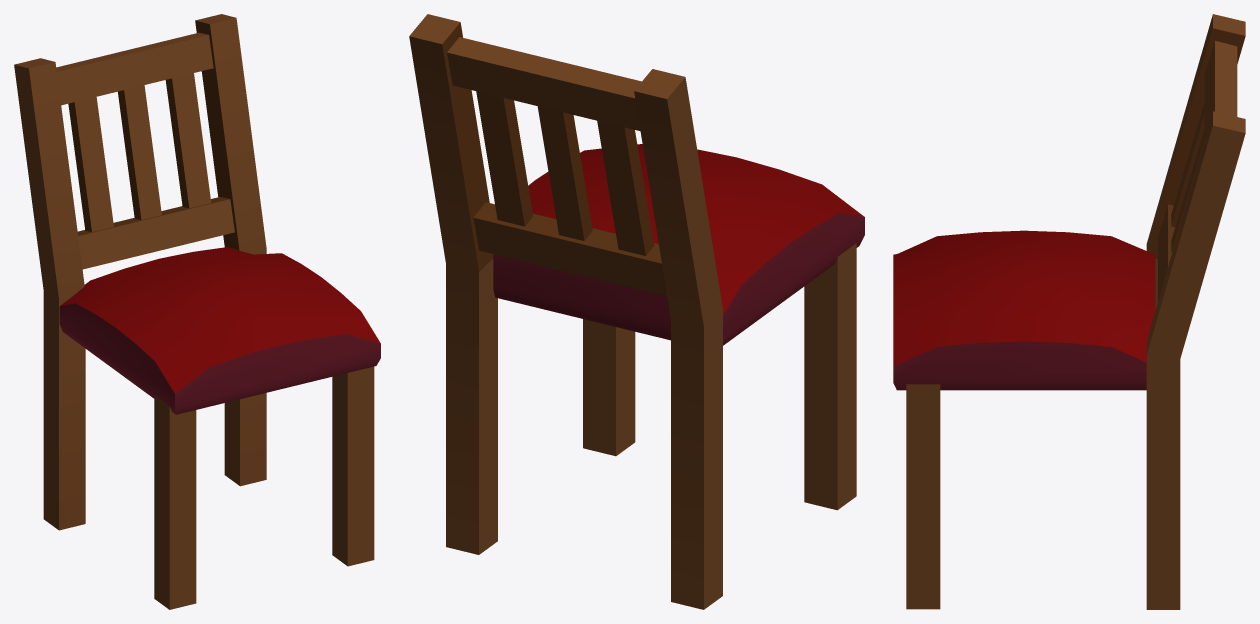
Rendered from Chair.fbx.
3 views of the same model, side by side, from view 1: azimuth 30°, elevation 25°; view 2: azimuth 150°, elevation 25°; view 3: azimuth 270°, elevation 25° (orthographic). The views are drawn at different scales.
Visible parts, largest first — view 1: Prop_Chair_04; view 2: Prop_Chair_04; view 3: Prop_Chair_04.
Boxes of the visible parts, <box> form: Prop_Chair_04: <box>14,14,380,609</box>; Prop_Chair_04: <box>409,14,864,609</box>; Prop_Chair_04: <box>893,14,1245,609</box>.
Bounding box in the file's own units: 48.25 × 97.71 × 64.42.
Materials: 1 (1 with a texture image).
